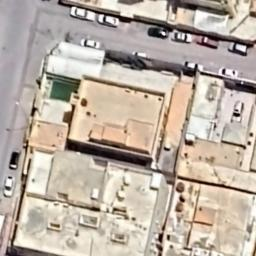SUV: (3, 173, 16, 199)
pickup: (194, 33, 222, 49)
sedan: (67, 4, 98, 24), (96, 12, 120, 30), (146, 25, 172, 40), (168, 30, 194, 44), (216, 66, 240, 80), (182, 59, 206, 73), (80, 35, 102, 50), (9, 149, 21, 171), (131, 50, 149, 62)
van: (225, 40, 249, 57)
